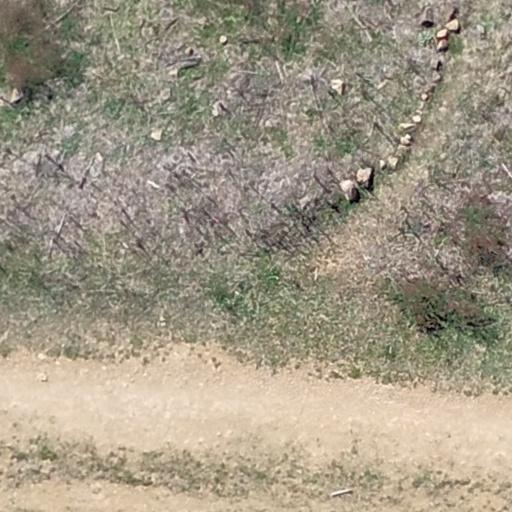stone: (339, 179, 359, 204), (356, 167, 374, 190), (212, 100, 230, 118), (9, 88, 25, 106), (330, 78, 346, 96), (421, 7, 434, 26), (442, 6, 457, 21), (386, 154, 400, 170), (159, 86, 172, 102), (436, 39, 450, 52), (400, 133, 414, 146), (428, 56, 441, 70), (398, 122, 416, 131), (446, 20, 461, 30), (431, 71, 443, 83), (150, 129, 163, 140), (436, 28, 448, 38), (184, 46, 195, 56), (420, 92, 430, 102), (412, 114, 422, 124), (38, 372, 48, 382), (219, 34, 228, 44)
